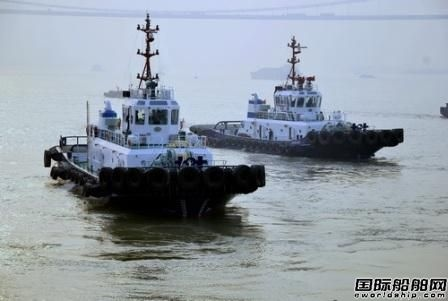otherboat: (40, 12, 269, 223), (178, 35, 406, 167)
